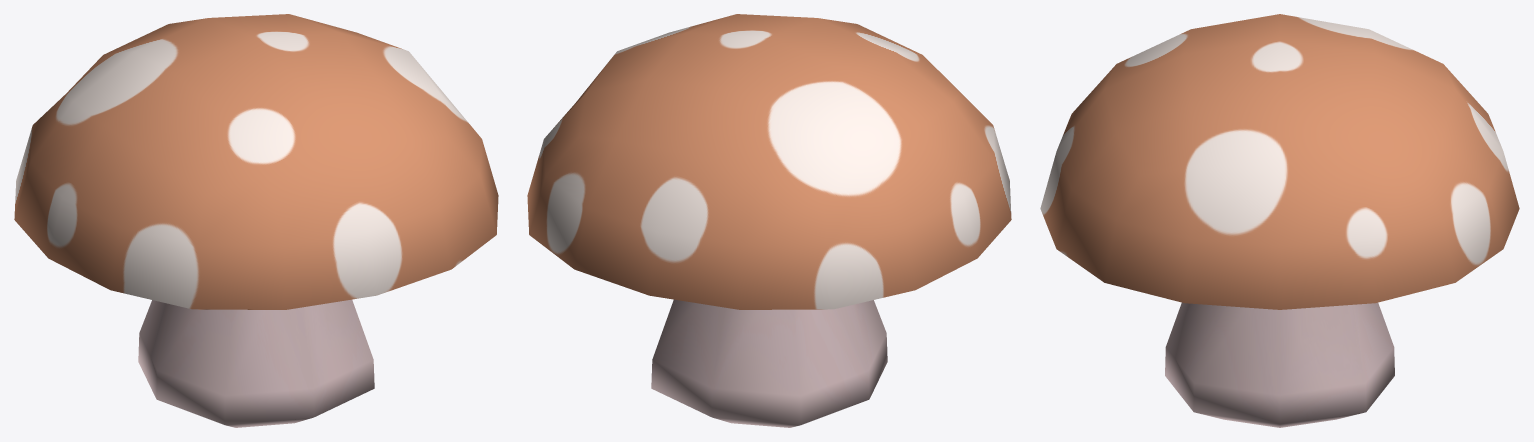
The model's file is Mushroom3.fbx.
3 renders of one model, left to right at view 1: azimuth 30°, elevation 25°; view 2: azimuth 150°, elevation 25°; view 3: azimuth 270°, elevation 25°, orthographic.
Parts seen in each view (by area): view 1: Mushroom13; view 2: Mushroom13; view 3: Mushroom13.
Boxes of the visible parts, x1,y1,x2,y2 form: Mushroom13: (14,14,498,427); Mushroom13: (527,14,1011,427); Mushroom13: (1040,14,1519,427).
Bounding box in the file's own units: 23.2 × 19.02 × 23.2.
